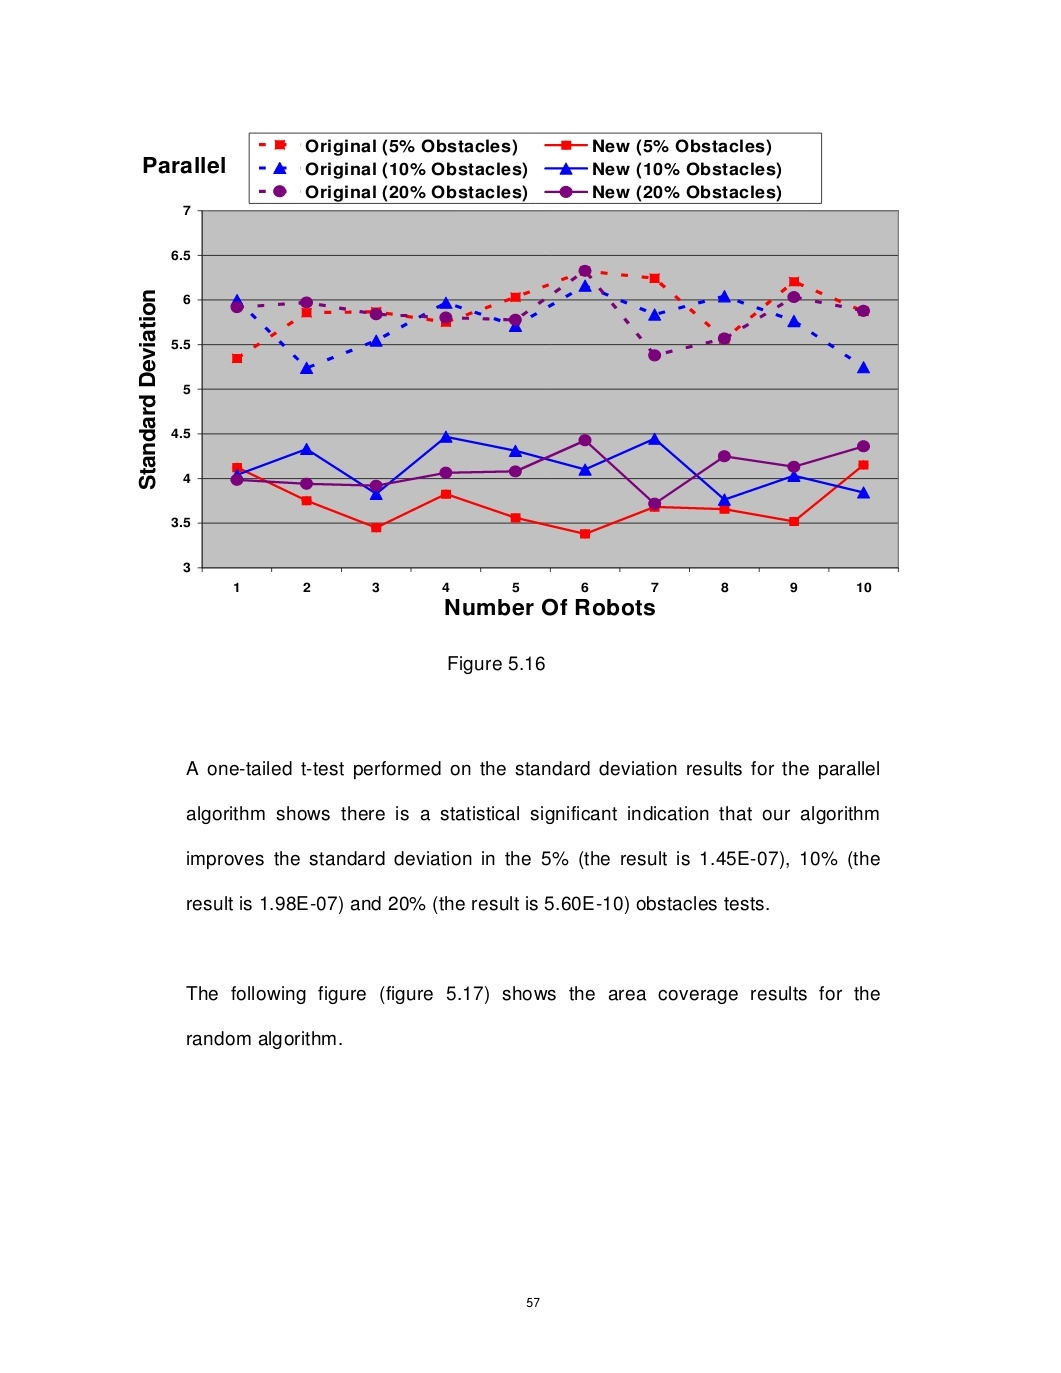figure: (138, 132, 898, 615)
